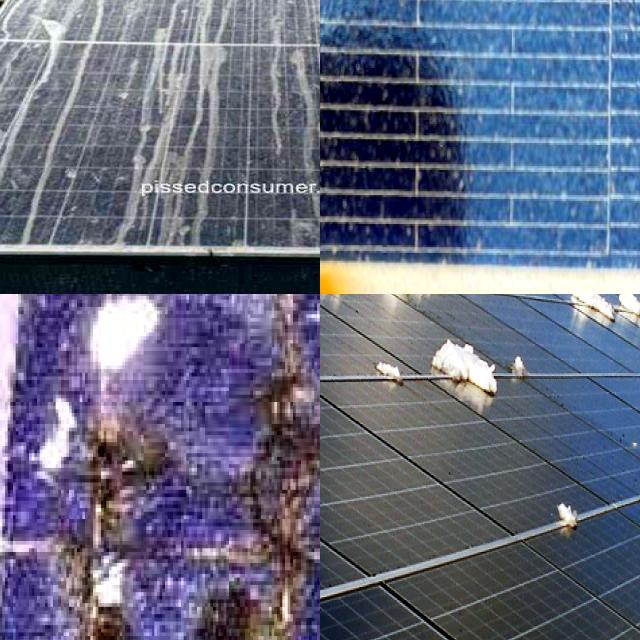bird: (150, 16, 236, 215), (235, 52, 320, 187), (0, 65, 19, 199), (271, 0, 320, 29), (31, 0, 65, 38)
panel: (429, 318, 498, 408), (343, 294, 449, 333), (546, 494, 598, 554), (447, 294, 536, 329), (528, 294, 631, 323), (508, 312, 544, 394), (575, 294, 640, 332), (364, 342, 413, 392), (368, 294, 458, 321), (320, 294, 363, 347), (320, 294, 367, 341), (320, 294, 369, 339), (320, 294, 378, 329)
shadow: (0, 396, 194, 640), (206, 294, 320, 640), (320, 0, 344, 27)
